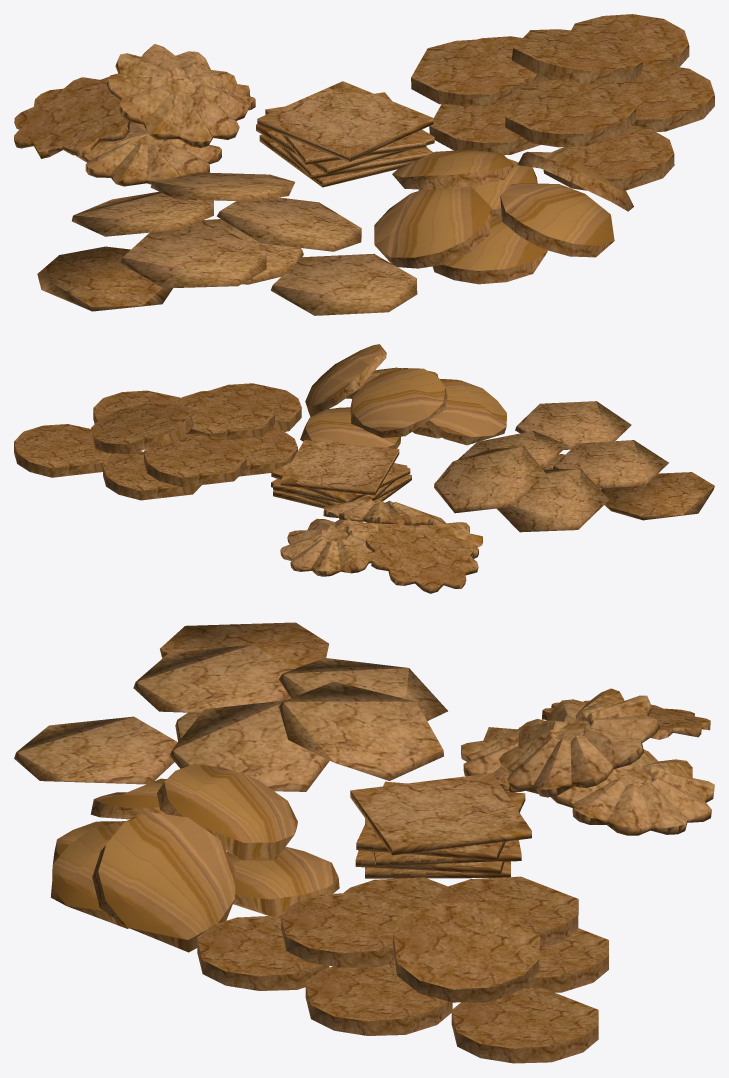
The model's file is Biscuit.glb.
3 renders of one model, top to bottom at view 1: azimuth 30°, elevation 25°; view 2: azimuth 150°, elevation 25°; view 3: azimuth 270°, elevation 25°, orthographic. The views are drawn at different scales.
Parts seen in each view (by area): view 1: Biscuit; view 2: Biscuit; view 3: Biscuit.
Boxes of the visible parts, box(x1,y1,x2,y2) form: Biscuit: box(14, 14, 714, 315); Biscuit: box(14, 344, 714, 593); Biscuit: box(14, 622, 714, 1063).
Size of the model in its own units: 0.0202 by 0.00217 by 0.0141.
Materials: 1 (1 with a texture image).
